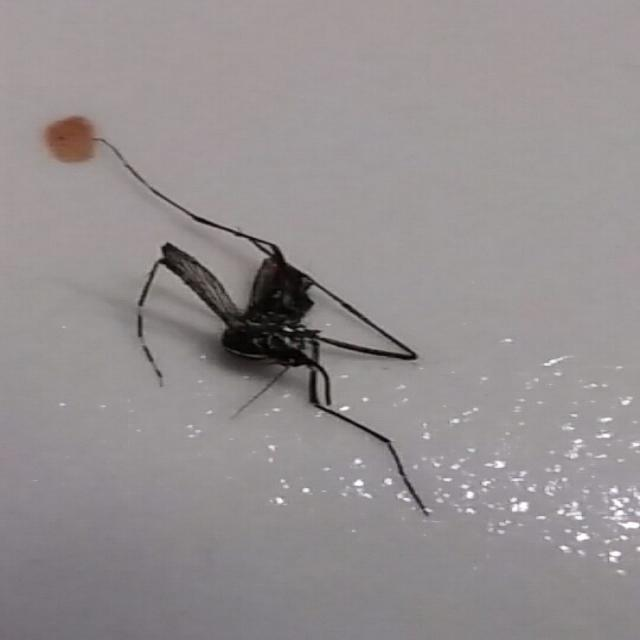albopictus: (78, 121, 434, 442)
